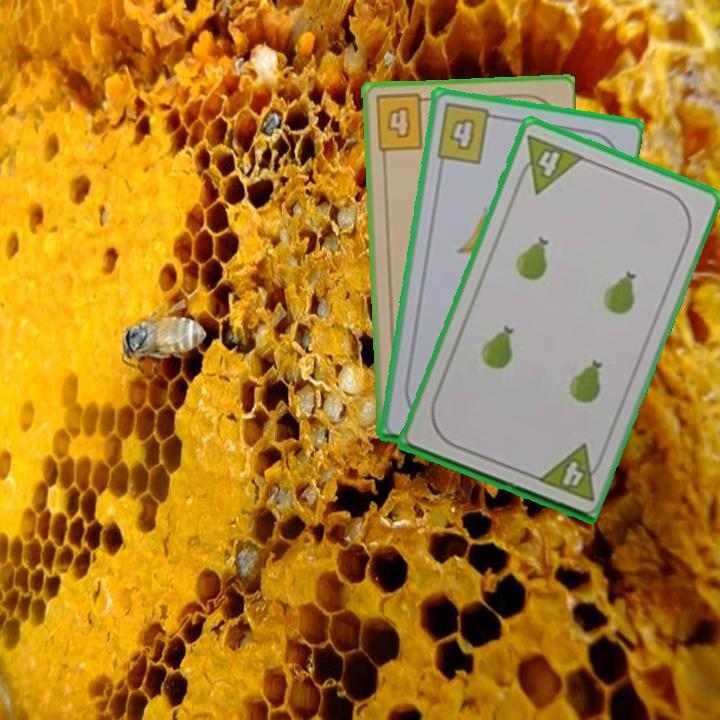4b: (433, 100, 502, 167), (372, 91, 434, 154)
4p: (511, 130, 587, 197), (532, 440, 608, 504)
